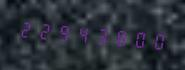eight: (112, 21, 130, 53)
four: (74, 18, 92, 49)
nine: (55, 16, 73, 48)
three: (93, 20, 111, 51)
two: (17, 13, 35, 44), (36, 15, 54, 46)
zero: (131, 23, 149, 54), (150, 25, 168, 56)
